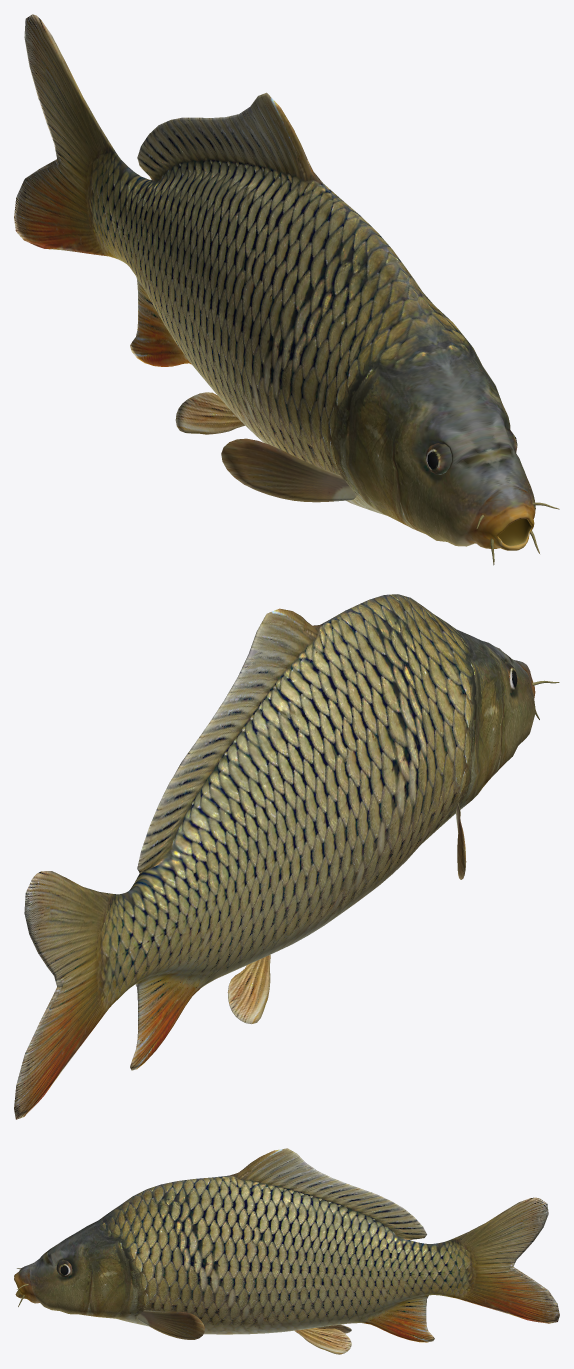
File: cgtrader_optimized_carp.fbx
The picture shows the model from 3 angles, top to bottom: view 1: azimuth 30°, elevation 25°; view 2: azimuth 150°, elevation 25°; view 3: azimuth 270°, elevation 25°; orthographic projection. The views are drawn at different scales.
Visible parts, largest first — view 1: body; view 2: body; view 3: body.
Boxes of the visible parts, <box> form: body: <box>14,14,559,565</box>; body: <box>14,594,559,1119</box>; body: <box>14,1148,559,1354</box>.
Size of the model in its own units: 0.0976 by 0.1387 by 0.3496.
